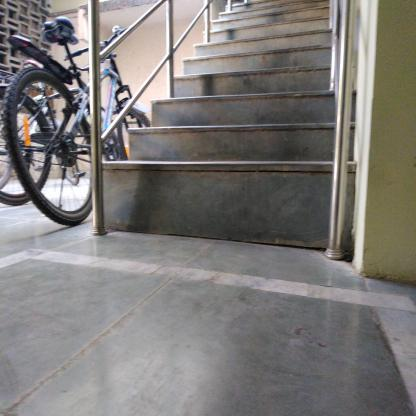stairs: (217, 11, 327, 265)
